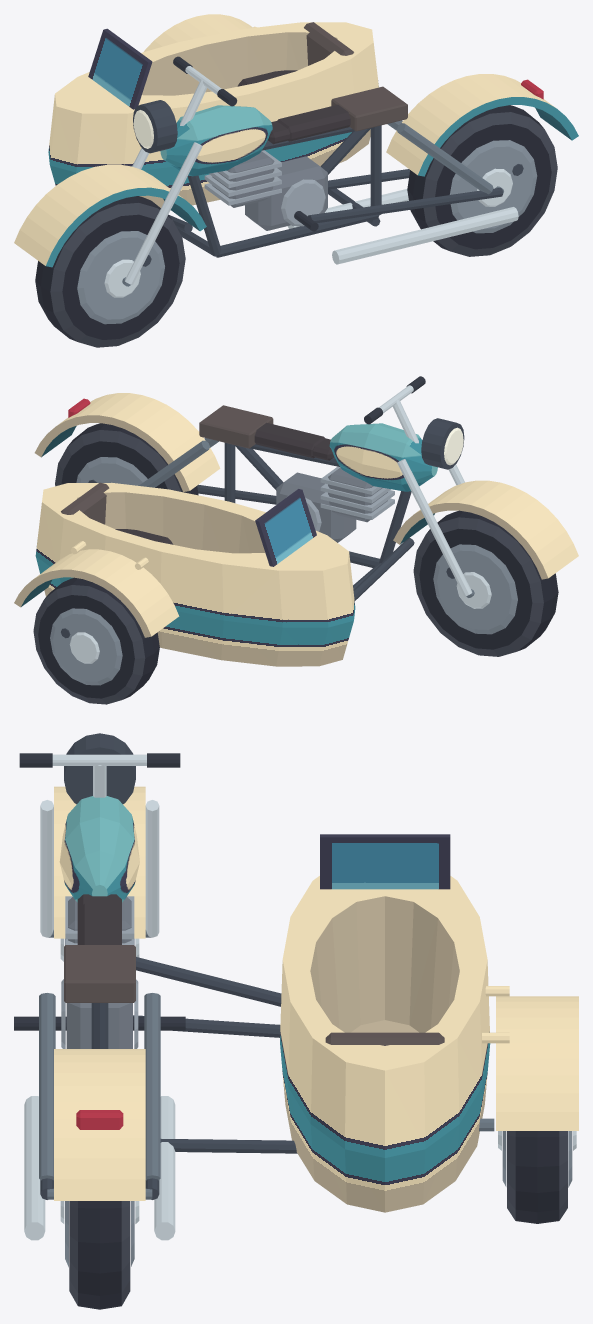
The picture shows the model from 3 angles, top to bottom: view 1: azimuth 30°, elevation 25°; view 2: azimuth 150°, elevation 25°; view 3: azimuth 270°, elevation 25°; orthographic projection. The views are drawn at different scales.
Visible parts, largest first — view 1: Body_static, Wheel_F_tire_hub, Wheel_R_tire_hub; view 2: Body_static, Wheel_F_tire_hub, Wheel_SC_tire_hub, Wheel_R_tire_hub; view 3: Body_static, Wheel_R_tire_hub, Wheel_SC_tire_hub.
Boxes of the visible parts, bbox=[...] form: Body_static: bbox=[14, 14, 578, 286]; Wheel_F_tire_hub: bbox=[35, 196, 185, 347]; Wheel_R_tire_hub: bbox=[407, 105, 557, 256]; Body_static: bbox=[14, 376, 578, 666]; Wheel_F_tire_hub: bbox=[413, 510, 558, 656]; Wheel_SC_tire_hub: bbox=[33, 577, 159, 704]; Wheel_R_tire_hub: bbox=[55, 423, 198, 495]; Body_static: bbox=[14, 733, 578, 1240]; Wheel_R_tire_hub: bbox=[60, 1201, 139, 1309]; Wheel_SC_tire_hub: bbox=[498, 1131, 576, 1223].
Bounding box in the file's own units: 55.84 × 24.28 × 35.48.
1 material, 1 textured.
